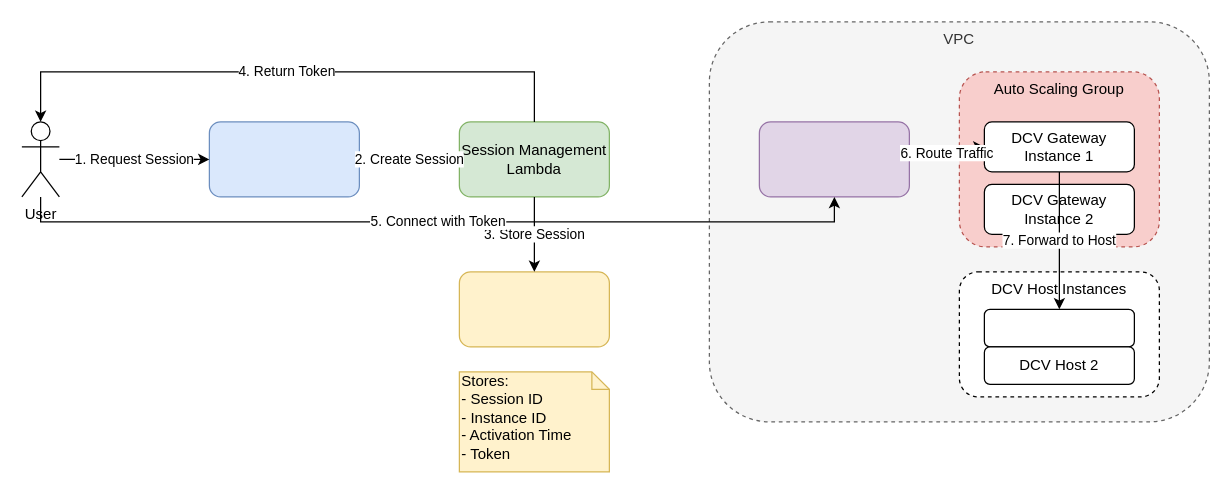
Some shapes in this 1231 by 494 pixel diagram are drawn without their labels. Each missing label, with the centre of its shape:
"API Gateway" belongs at point 283,159.
"DCV Host 1" belongs at point 1058,327.
"DynamoDB Session Table" belongs at point 533,309.
"Network Load Balancer (port 8443)" belongs at point 833,159.
